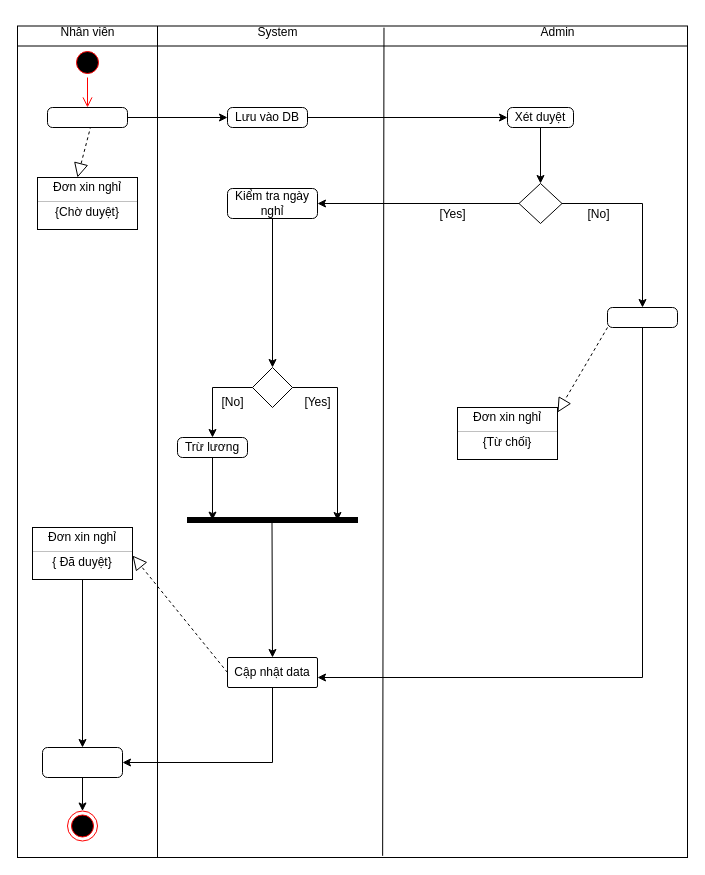
This 705x875 diagram has some shape labels left out. Here are the shapes that lost their labels. From the top down, the centre of each, then its label:
At pixel 87 117: "Điền đơn".
At pixel 642 317: "Từ chối".
At pixel 82 762: "Nhận kết quả".
